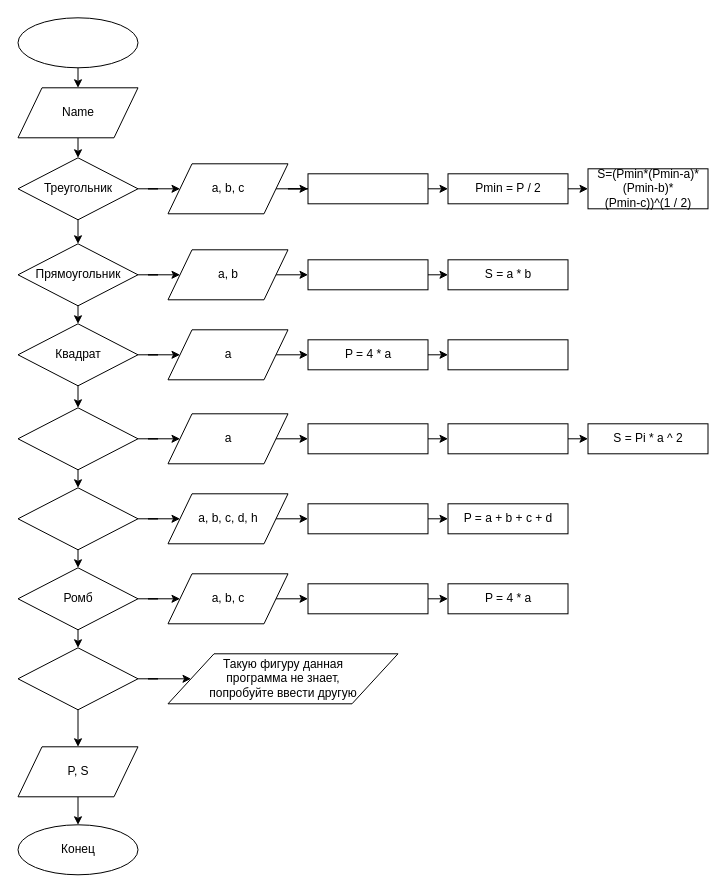
Image size: 725x892. Some labels were removed from this diagram. The shapes that lost their labels are listed below. From the top down, each one's centre as x and y in pixels, then its label:
point 77,42: Начало
point 367,188: P = a + b + c
point 367,274: P = a + b
point 507,354: S = a ^ 2
point 77,438: Круг
point 367,438: Pi = 3.14
point 507,438: P = 2 * Pi * a
point 77,518: Трапеция
point 367,518: S = (a + b) / 2 * h
point 367,598: S = b * c / 2
point 77,678: Else
